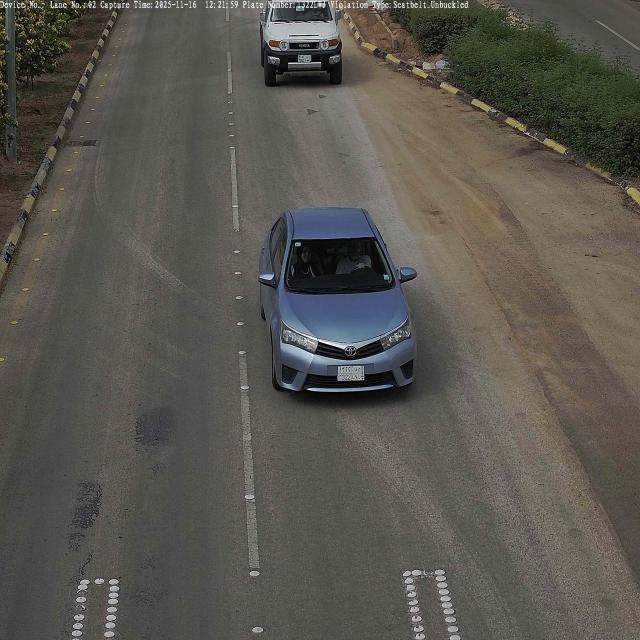person_without_seatbelt: (336, 239, 372, 276)
